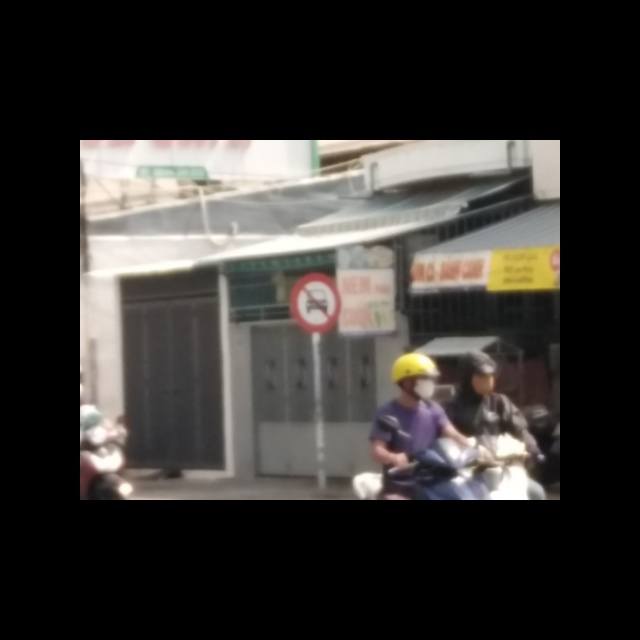Cấm xe ô tô: (287, 269, 342, 332)
